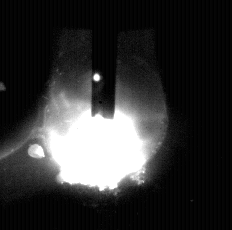arame: (91, 0, 116, 118)
poca: (43, 0, 169, 230)
